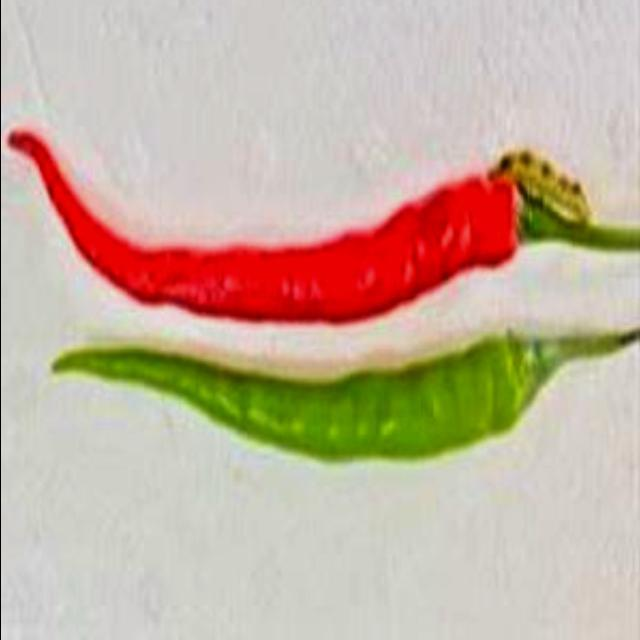Cotton bollworm: (484, 143, 598, 235)
